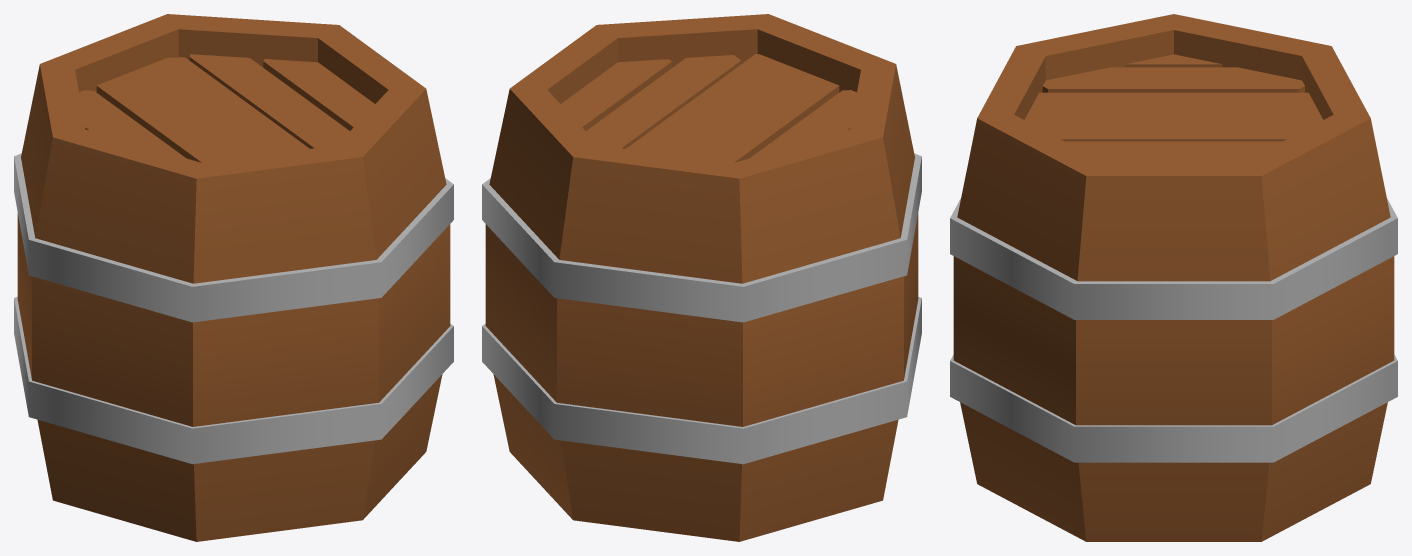
The model's file is barrel.fbx.
3 renders of one model, left to right at view 1: azimuth 30°, elevation 25°; view 2: azimuth 150°, elevation 25°; view 3: azimuth 270°, elevation 25°, orthographic.
Visible parts, largest first — view 1: barrel; view 2: barrel; view 3: barrel.
Boxes of the visible parts, <box> form: barrel: <box>14,14,453,541</box>; barrel: <box>482,14,921,541</box>; barrel: <box>950,14,1397,541</box>.
Size of the model in its own units: 430 by 397 by 441.
